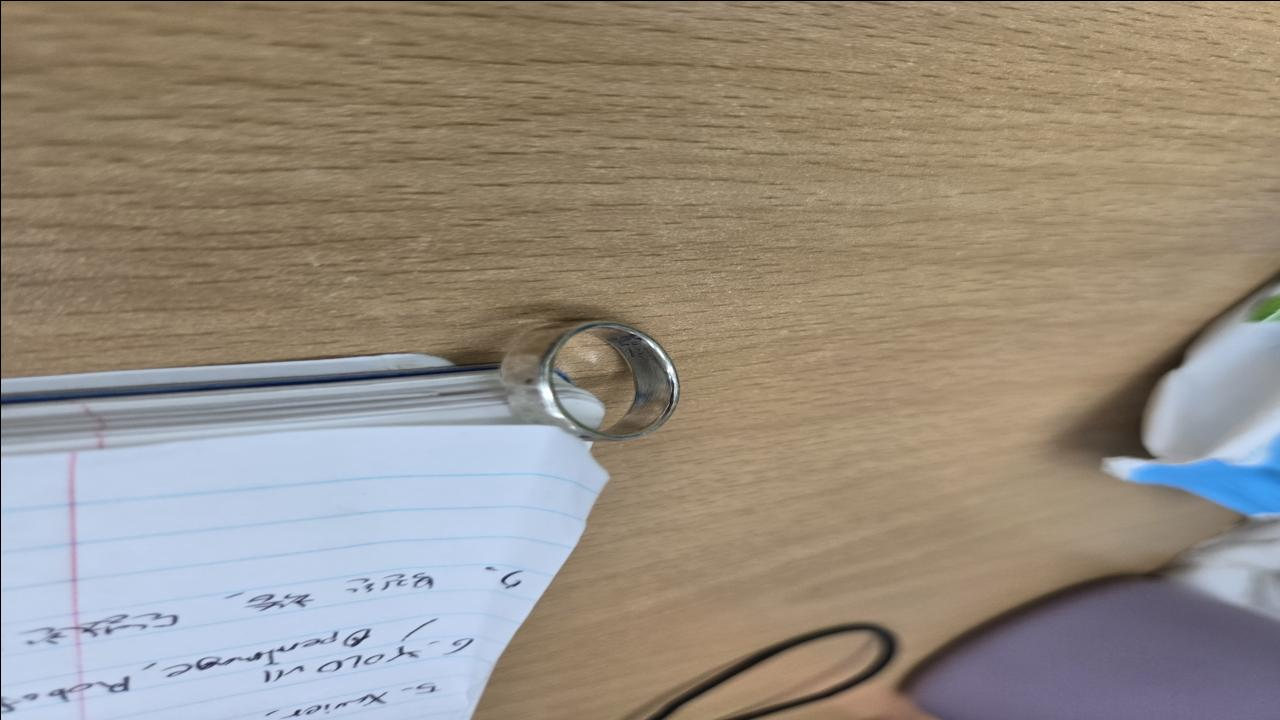ring: (495, 316, 683, 441)
